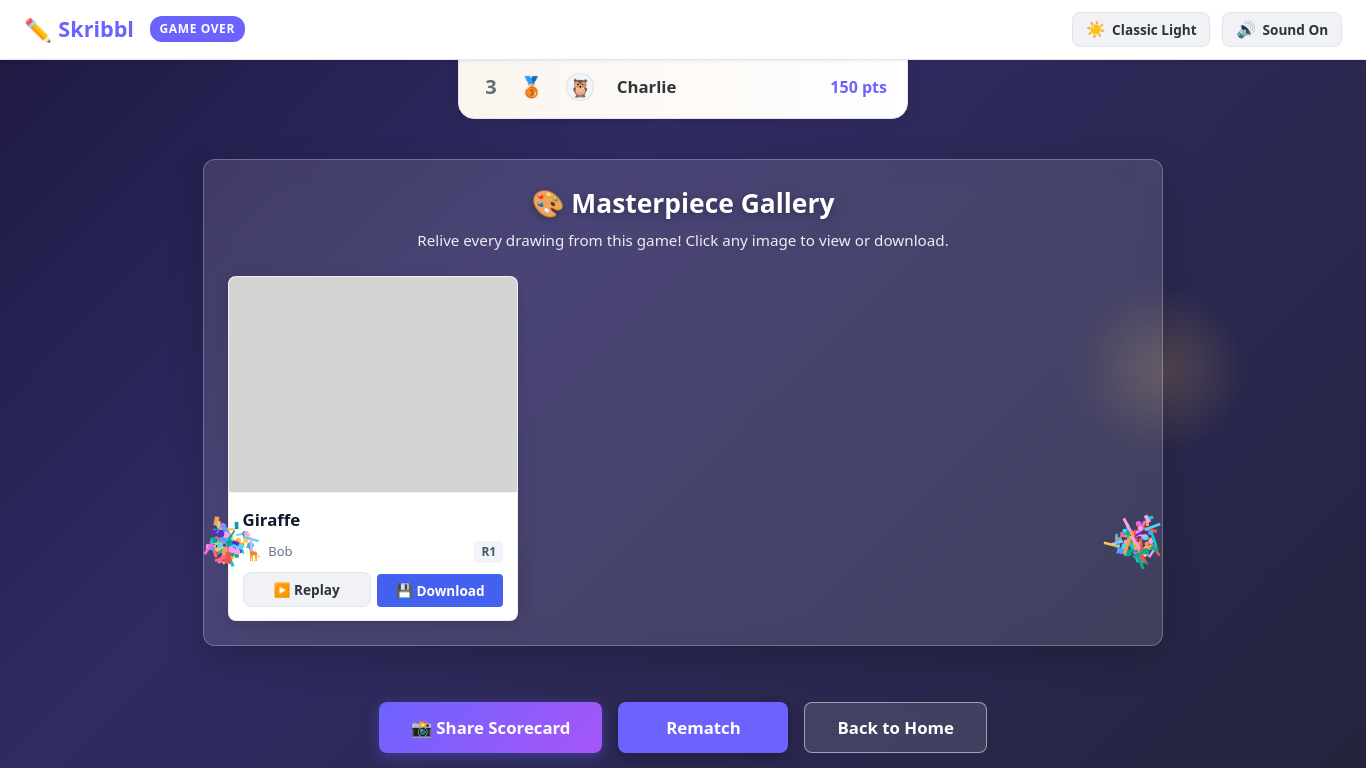
Test: GameOver › allows opening Replay modal from within the lightbox modal footer
(page scrolled)
// Open lightbox
Step 1. Click the button titled "View drawing for Giraffe" → (373, 385), box 229,277 -> 517,493
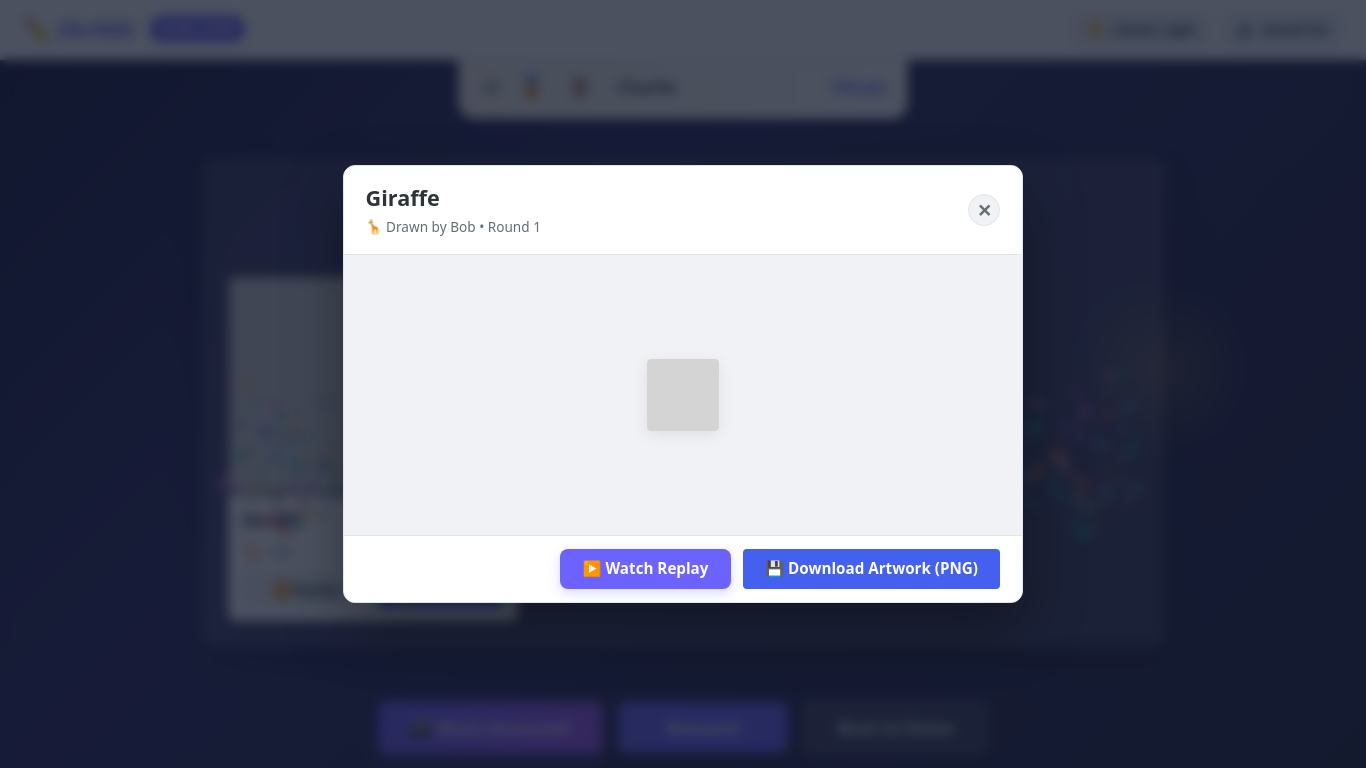
Check: the dialog with test id "gallery-modal" is shown
// Click "Watch Replay" button in lightbox footer
Step 2. Click the button with test id "lightbox-replay-btn" → (646, 569), box 560,549 -> 731,589
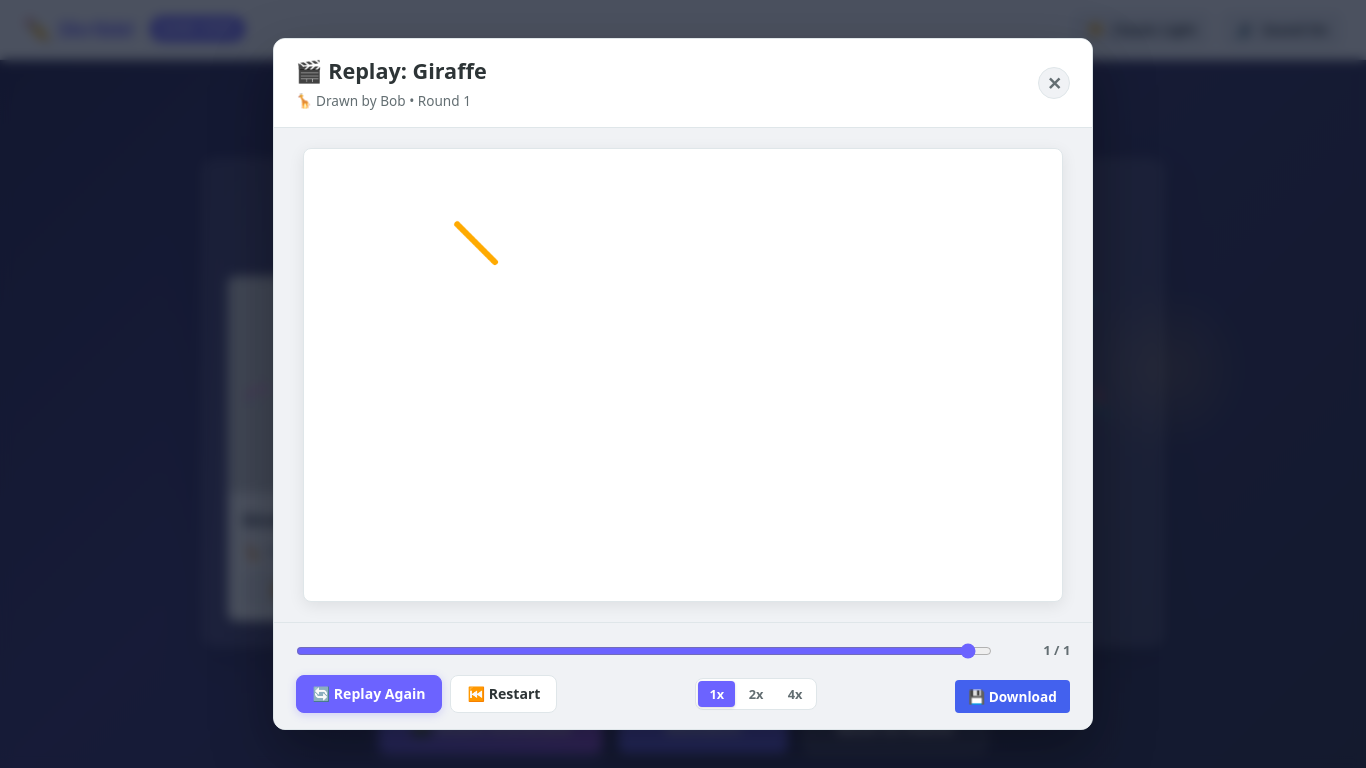
Check: the dialog with test id "gallery-modal" is gone
Check: the dialog with test id "replay-modal" is shown
Check: the heading "🎬 Replay: Giraffe" is shown, box 296,55 -> 487,88
